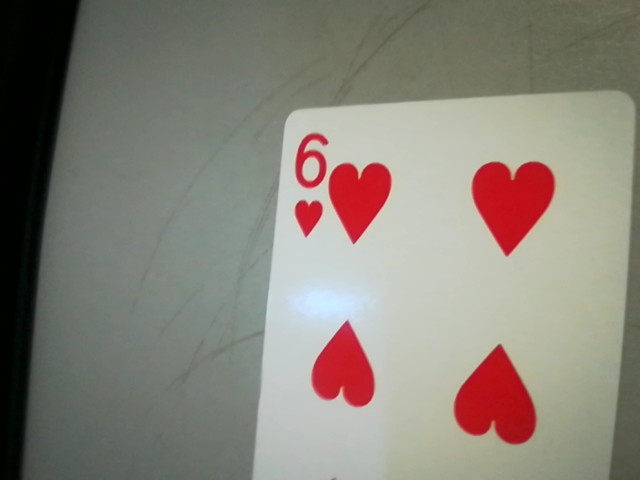hx 6: (282, 125, 335, 242)
